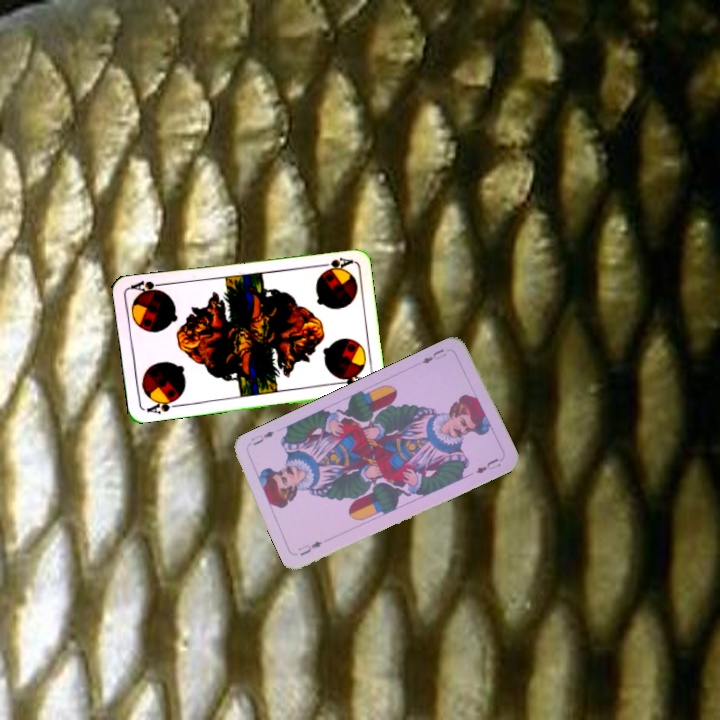EU: (418, 345, 449, 366), (294, 537, 325, 558)
SA: (143, 394, 182, 416), (314, 253, 354, 273)
